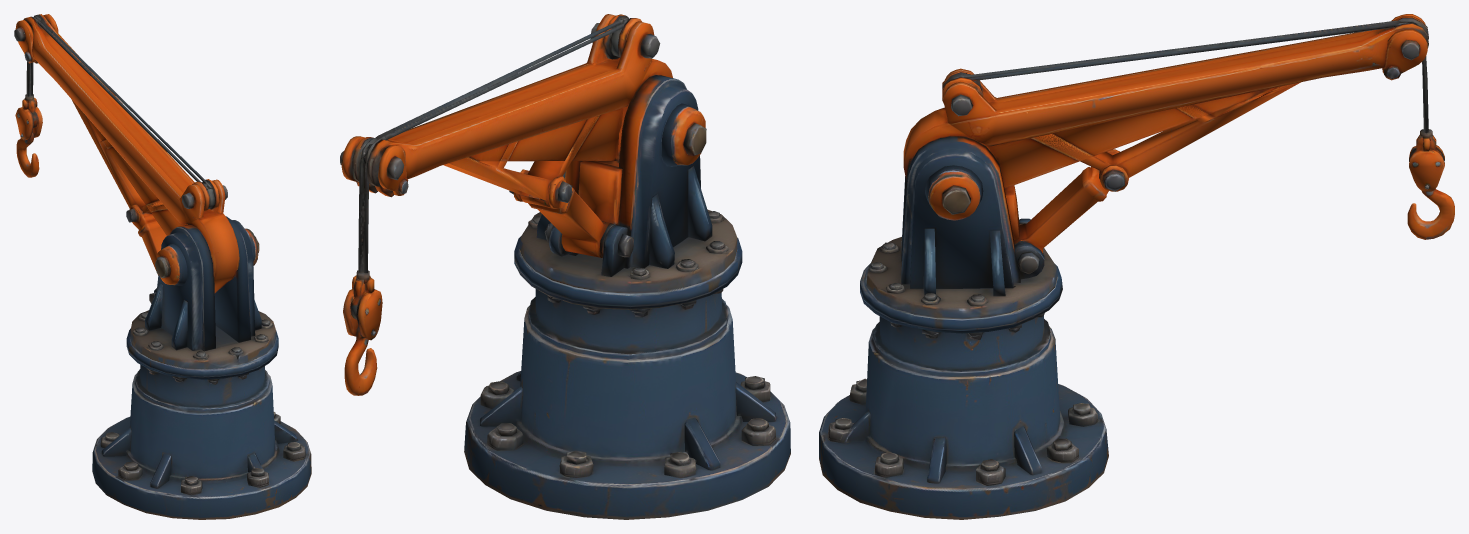
The model's file is 05-cargo-crane.glb.
The picture shows the model from 3 angles, left to right: view 1: azimuth 30°, elevation 25°; view 2: azimuth 150°, elevation 25°; view 3: azimuth 270°, elevation 25°; orthographic projection. The views are drawn at different scales.
Parts seen in each view (by area): view 1: tripo_node_e527579c-1274-43c7-82dc-25ddf1f83d28; view 2: tripo_node_e527579c-1274-43c7-82dc-25ddf1f83d28; view 3: tripo_node_e527579c-1274-43c7-82dc-25ddf1f83d28.
Part boxes in pixels (left/top/right/bottom): tripo_node_e527579c-1274-43c7-82dc-25ddf1f83d28: left=14, top=14, right=311, bottom=519; tripo_node_e527579c-1274-43c7-82dc-25ddf1f83d28: left=340, top=14, right=790, bottom=519; tripo_node_e527579c-1274-43c7-82dc-25ddf1f83d28: left=819, top=14, right=1454, bottom=519.
Size of the model in its own units: 0.3575 by 0.6 by 0.7841.
1 material, 1 textured.
